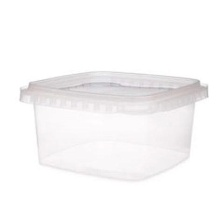plastic_box: (11, 64, 213, 186)
